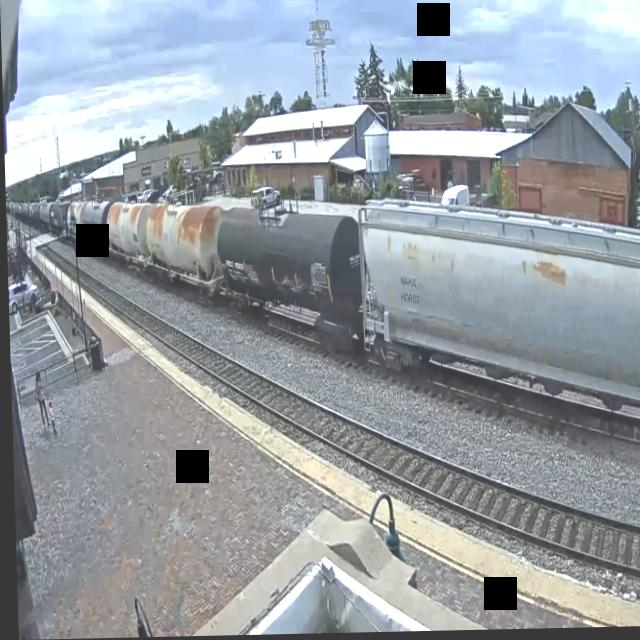hopper: (350, 186, 640, 461)
tank: (209, 193, 363, 362), (142, 191, 222, 299)
